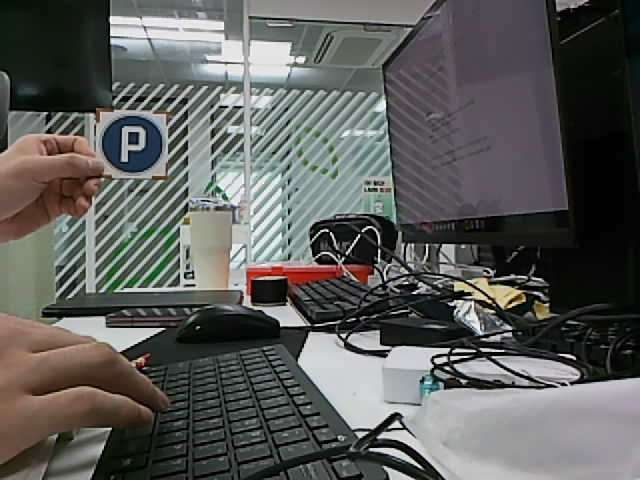park: (100, 115, 164, 174)
